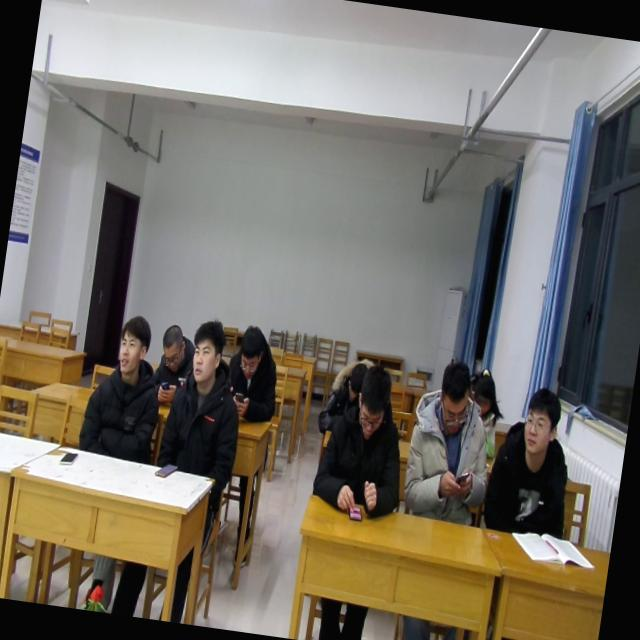bow: (221, 322, 287, 428), (314, 348, 382, 441), (458, 364, 508, 462), (148, 320, 200, 414)
down: (430, 355, 480, 439), (350, 362, 397, 446), (466, 353, 506, 423), (234, 320, 271, 381), (156, 320, 192, 376), (340, 351, 370, 404)
lookup: (514, 378, 566, 461), (185, 308, 232, 388), (110, 310, 156, 382)
sit: (397, 352, 506, 528), (310, 357, 419, 522), (478, 378, 584, 544), (154, 312, 255, 486), (75, 310, 174, 466)
